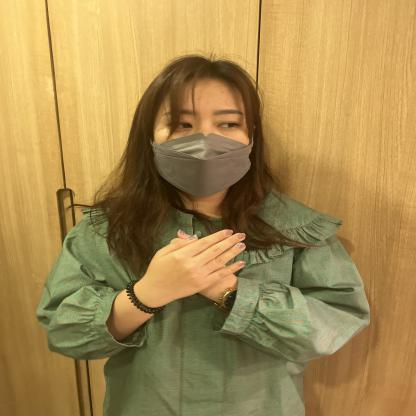Grieve: (64, 201, 330, 324)
